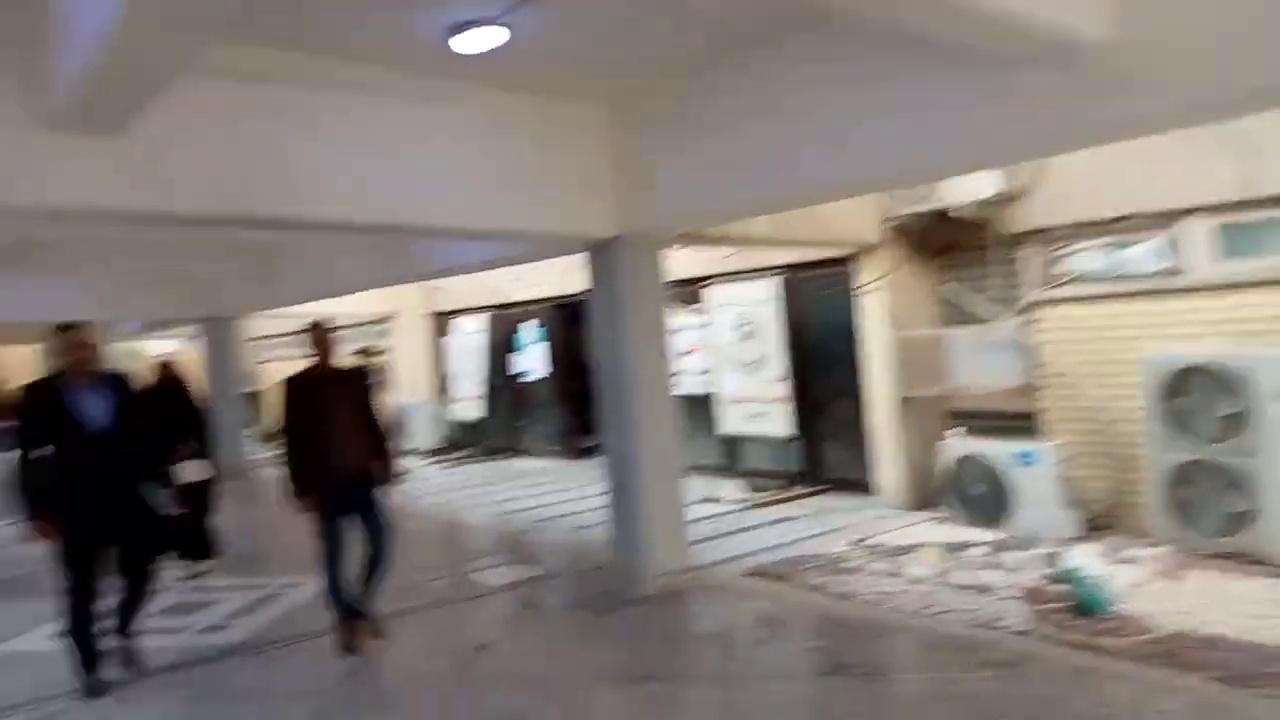person: (14, 319, 172, 698), (281, 318, 394, 657), (138, 359, 220, 562)
